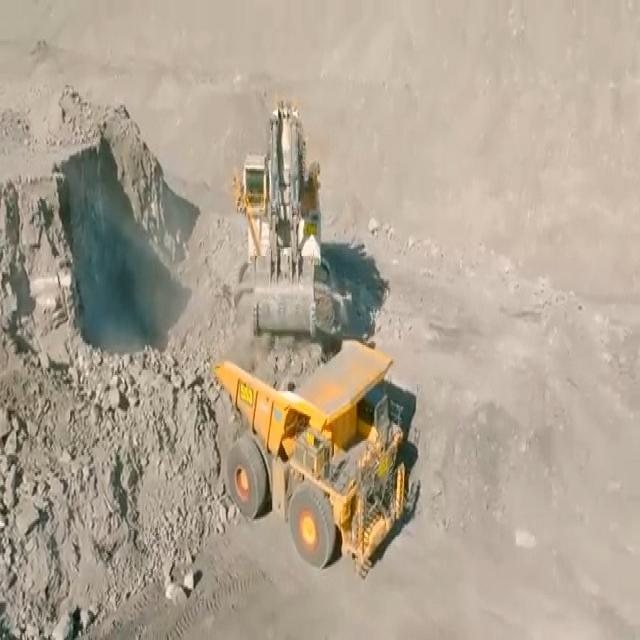dump_truck: (228, 355, 410, 568)
excavator: (234, 97, 327, 330)
